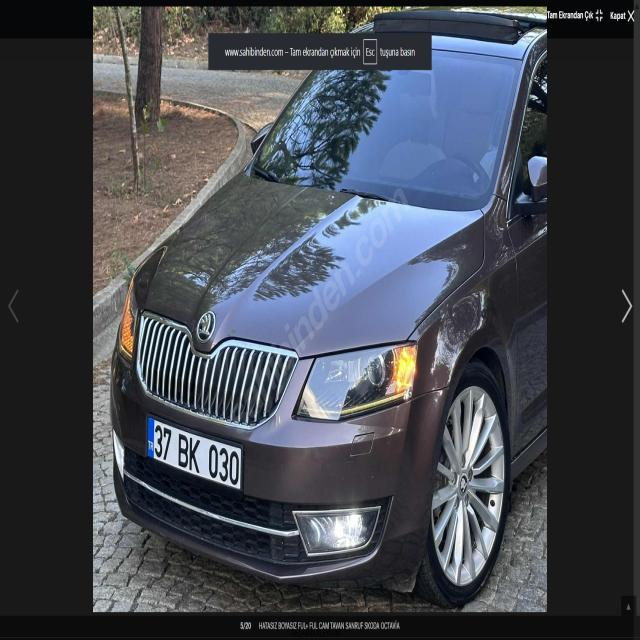skoda: (190, 296, 218, 348)
